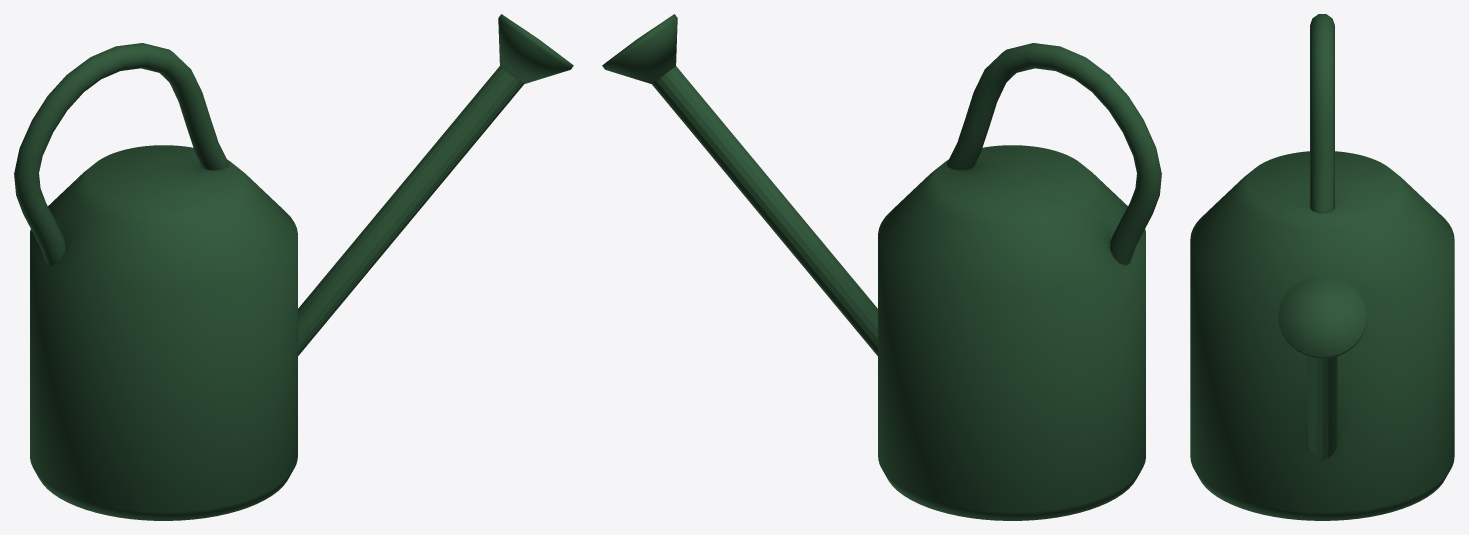
The model's file is green-metal.glb.
3 views of the same model, side by side, from view 1: azimuth 30°, elevation 25°; view 2: azimuth 150°, elevation 25°; view 3: azimuth 270°, elevation 25° (orthographic).
Visible parts, largest first — view 1: paint_primary; view 2: paint_primary; view 3: paint_primary.
Part boxes in pixels (box(x1,y1,x2,y2)): paint_primary: box(14, 14, 573, 520); paint_primary: box(602, 14, 1161, 520); paint_primary: box(1190, 14, 1454, 520).
Bounding box in the file's own units: 0.4974 × 0.3718 × 0.21.
Materials: 1 (1 with a texture image).
